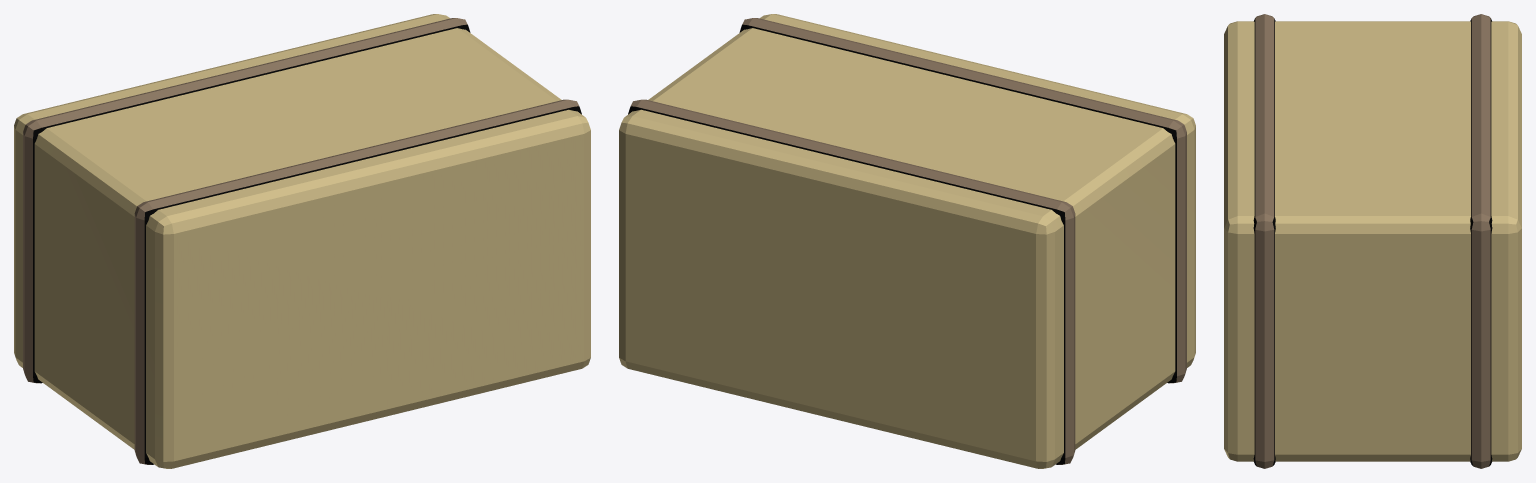
File: haybale.glb
The picture shows the model from 3 angles, left to right: view 1: azimuth 30°, elevation 25°; view 2: azimuth 150°, elevation 25°; view 3: azimuth 270°, elevation 25°; orthographic projection. The views are drawn at different scales.
Parts seen in each view (by area): view 1: bale; view 2: bale; view 3: bale.
Boxes of the visible parts, box(x1,y1,x2,y2) form: bale: box(14, 14, 590, 468); bale: box(619, 14, 1195, 468); bale: box(1224, 14, 1521, 468).
Size of the model in its own units: 0.92 by 0.52 by 0.55.
